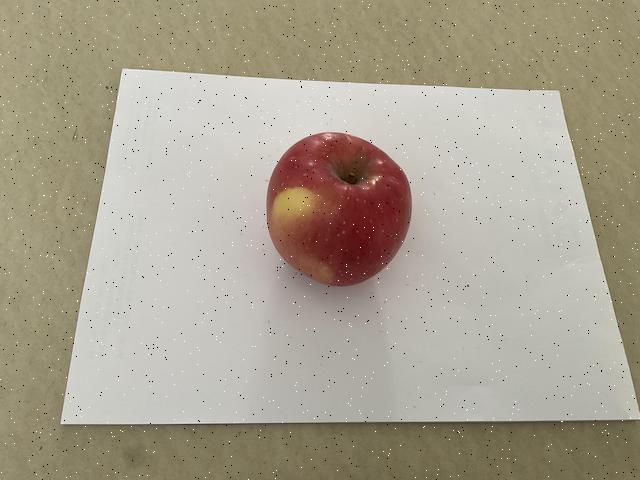apple: (259, 124, 416, 292)
